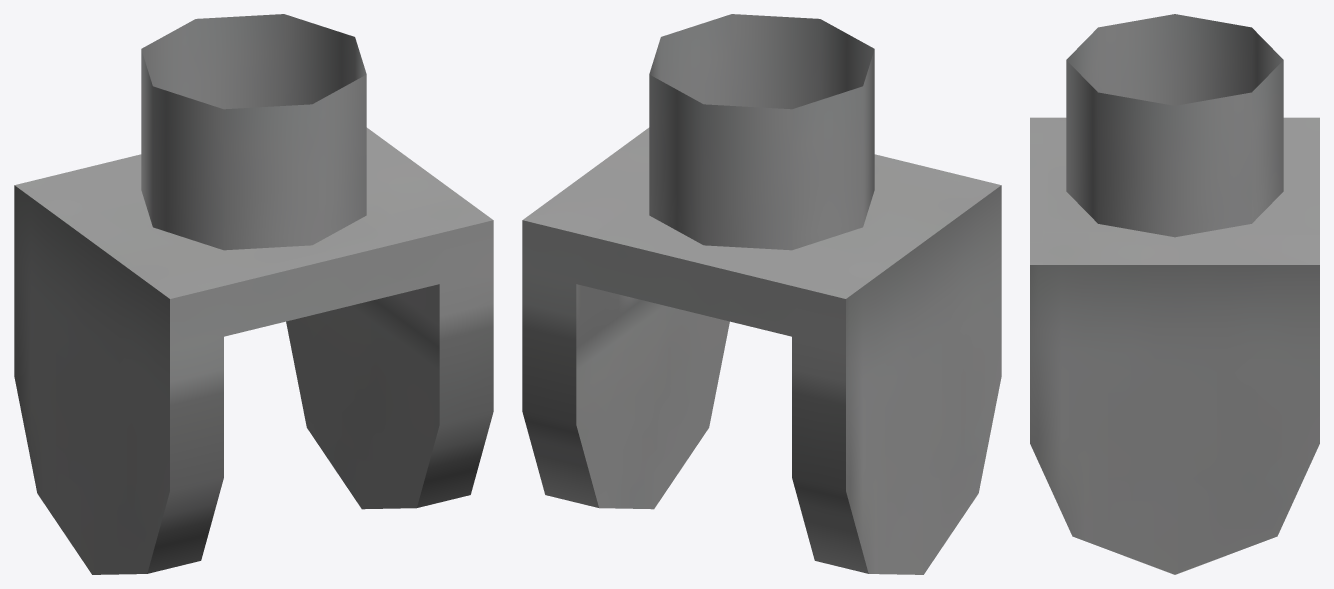
Rendered from Eridani_Antenna_4_Arm3.obj.
3 views of the same model, side by side, from view 1: azimuth 30°, elevation 25°; view 2: azimuth 150°, elevation 25°; view 3: azimuth 270°, elevation 25° (orthographic). The views are drawn at different scales.
Visible parts, largest first — view 1: Eridani_Antenna_4_Arm3; view 2: Eridani_Antenna_4_Arm3; view 3: Eridani_Antenna_4_Arm3.
Part boxes in pixels (x1,y1,x2,y2): Eridani_Antenna_4_Arm3: (14, 14, 493, 574); Eridani_Antenna_4_Arm3: (522, 14, 1001, 574); Eridani_Antenna_4_Arm3: (1030, 14, 1319, 574).
Bounding box in the file's own units: 0.15 × 0.21 × 0.125.
